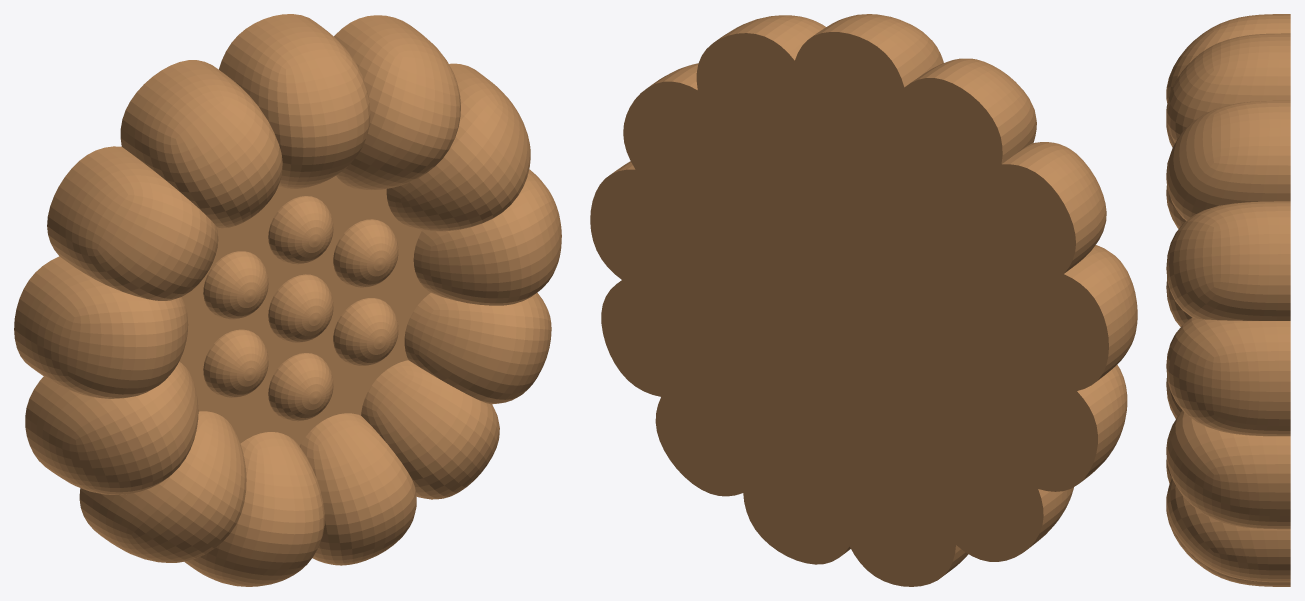
The model's file is yakgwa.glb.
The picture shows the model from 3 angles, left to right: view 1: azimuth 30°, elevation 25°; view 2: azimuth 150°, elevation 25°; view 3: azimuth 270°, elevation 25°; orthographic projection. The views are drawn at different scales.
Visible parts, largest first — view 1: Cube.2564, Circle.329, Circle.331; view 2: Cube.2564, Circle.331; view 3: Cube.2564.
Boxes of the visible parts, bbox=[...] form: Cube.2564: bbox=[14, 14, 561, 586]; Circle.329: bbox=[203, 196, 398, 421]; Circle.331: bbox=[179, 176, 430, 445]; Cube.2564: bbox=[590, 14, 1137, 586]; Circle.331: bbox=[716, 161, 985, 439]; Cube.2564: bbox=[1166, 14, 1290, 586].
Size of the model in its own units: 15.97 by 15.89 by 3.46.
